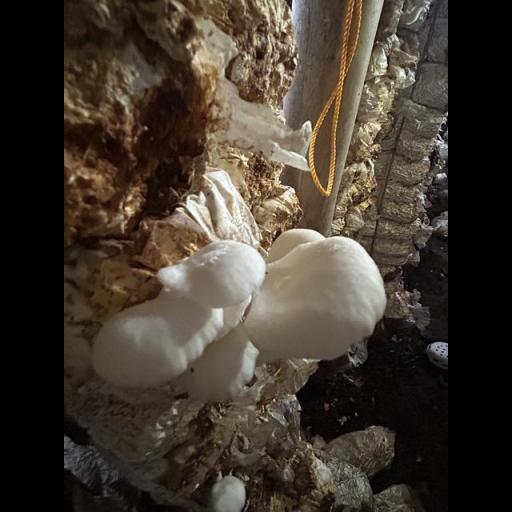White Oyster Mushroom: (100, 227, 385, 397)
